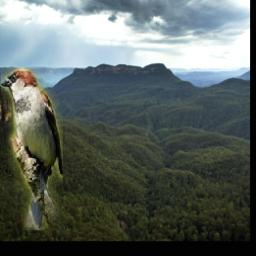Sparrow: (2, 68, 64, 231)
